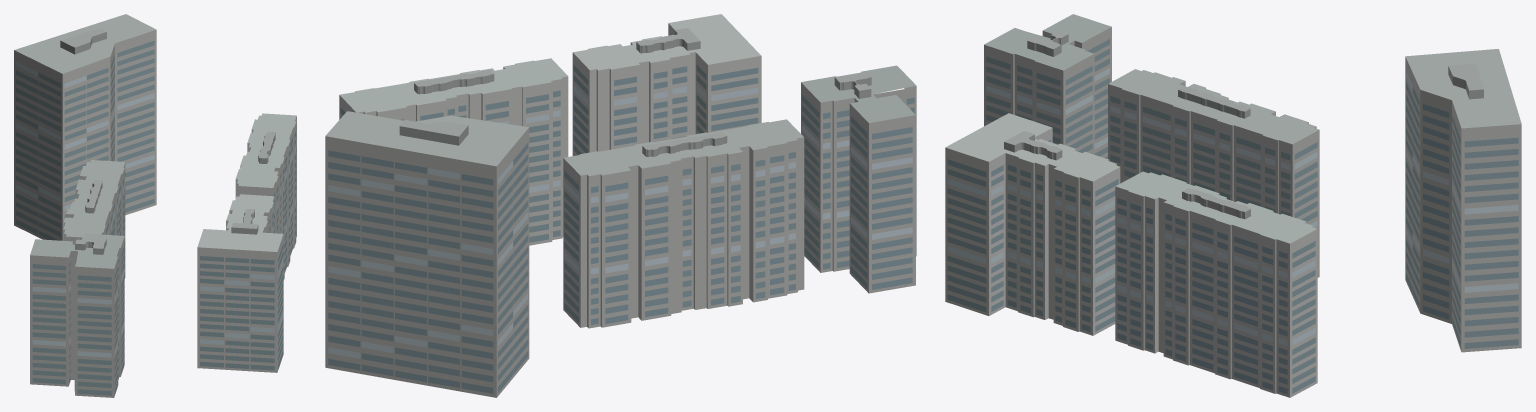
Rendered from apt-a13510003.glb.
The picture shows the model from 3 angles, left to right: view 1: azimuth 30°, elevation 25°; view 2: azimuth 150°, elevation 25°; view 3: azimuth 270°, elevation 25°; orthographic projection. The views are drawn at different scales.
Visible parts, largest first — view 1: apt-a13510003; view 2: apt-a13510003; view 3: apt-a13510003.
Boxes of the visible parts, <box> form: apt-a13510003: <box>14,14,296,397</box>; apt-a13510003: <box>325,14,916,397</box>; apt-a13510003: <box>945,14,1521,397</box>.
Size of the model in its own units: 128 by 63.4 by 142.
